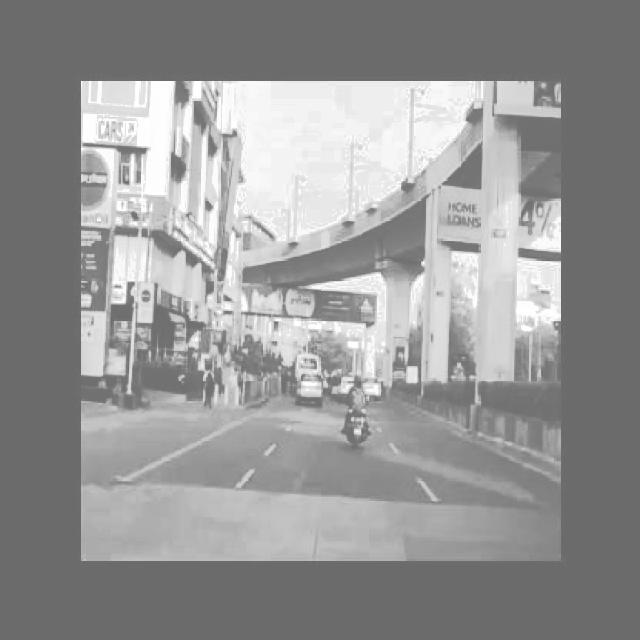Car: (288, 358, 332, 411), (362, 371, 386, 398)
